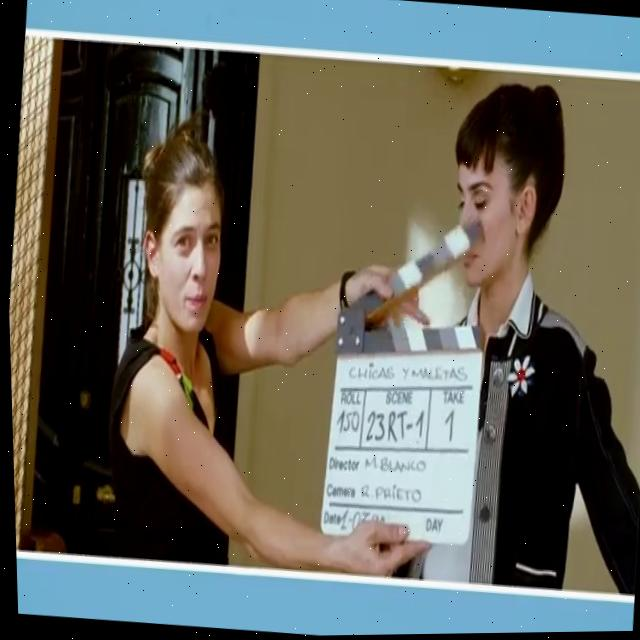Clapperboard: (308, 206, 503, 560)
